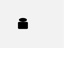human: (16, 15, 29, 31)
